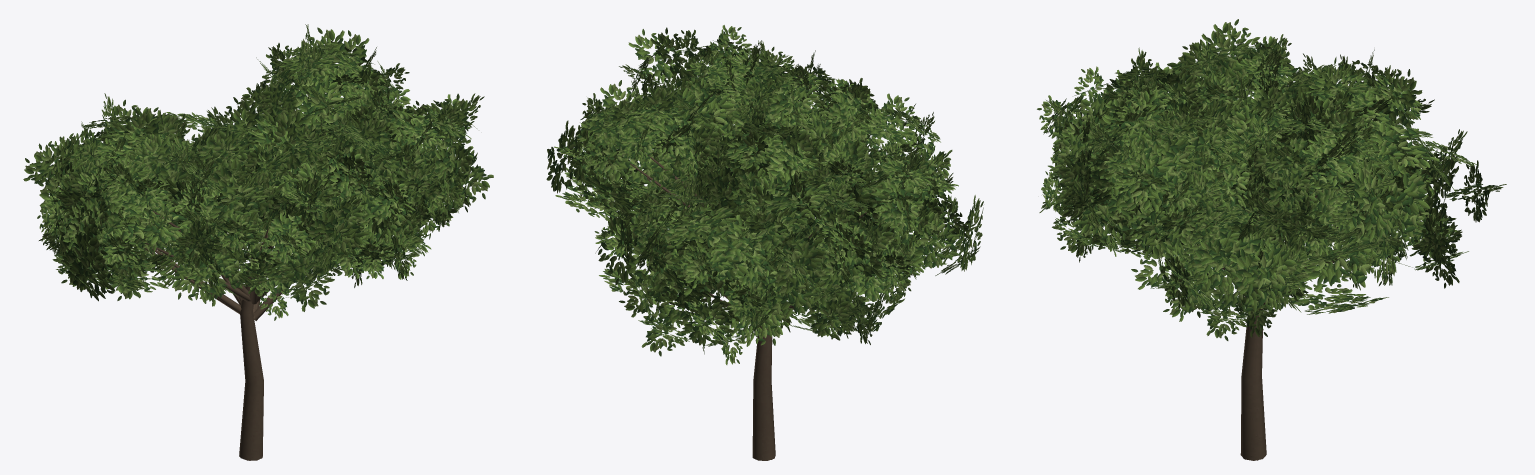
File: pilot_tree_canopy.glb
3 renders of one model, left to right at view 1: azimuth 30°, elevation 25°; view 2: azimuth 150°, elevation 25°; view 3: azimuth 270°, elevation 25°, orthographic. The views are drawn at different scales.
Visible parts, largest first — view 1: pilot_tree_canopy_leaves, pilot_tree_canopy_leaves.001, pilot_tree_canopy_trunk, pilot_tree_canopy_trunk.001; view 2: pilot_tree_canopy_leaves, pilot_tree_canopy_leaves.001, pilot_tree_canopy_trunk; view 3: pilot_tree_canopy_leaves, pilot_tree_canopy_leaves.001, pilot_tree_canopy_trunk.
Part boxes in pixels (<box>): pilot_tree_canopy_leaves: <box>23,24,493,320</box>; pilot_tree_canopy_leaves.001: <box>37,41,449,301</box>; pilot_tree_canopy_trunk: <box>239,258,263,460</box>; pilot_tree_canopy_trunk.001: <box>239,258,263,460</box>; pilot_tree_canopy_leaves: <box>554,25,970,364</box>; pilot_tree_canopy_leaves.001: <box>546,70,983,340</box>; pilot_tree_canopy_trunk: <box>752,322,775,460</box>; pilot_tree_canopy_leaves: <box>1037,19,1506,340</box>; pilot_tree_canopy_leaves.001: <box>1052,42,1458,314</box>; pilot_tree_canopy_trunk: <box>1240,312,1266,460</box>.
Size of the model in its own units: 7.37 by 6.65 by 7.29.
2 materials, 2 textured.
